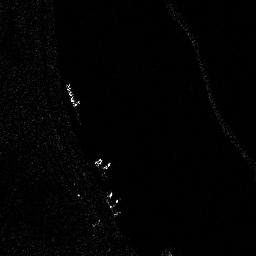ship: (65, 81, 79, 107)
